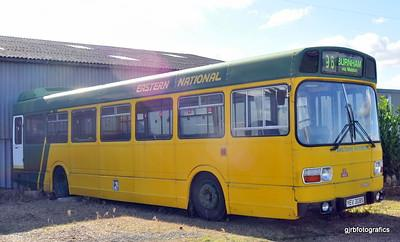bus: (6, 46, 388, 227)
